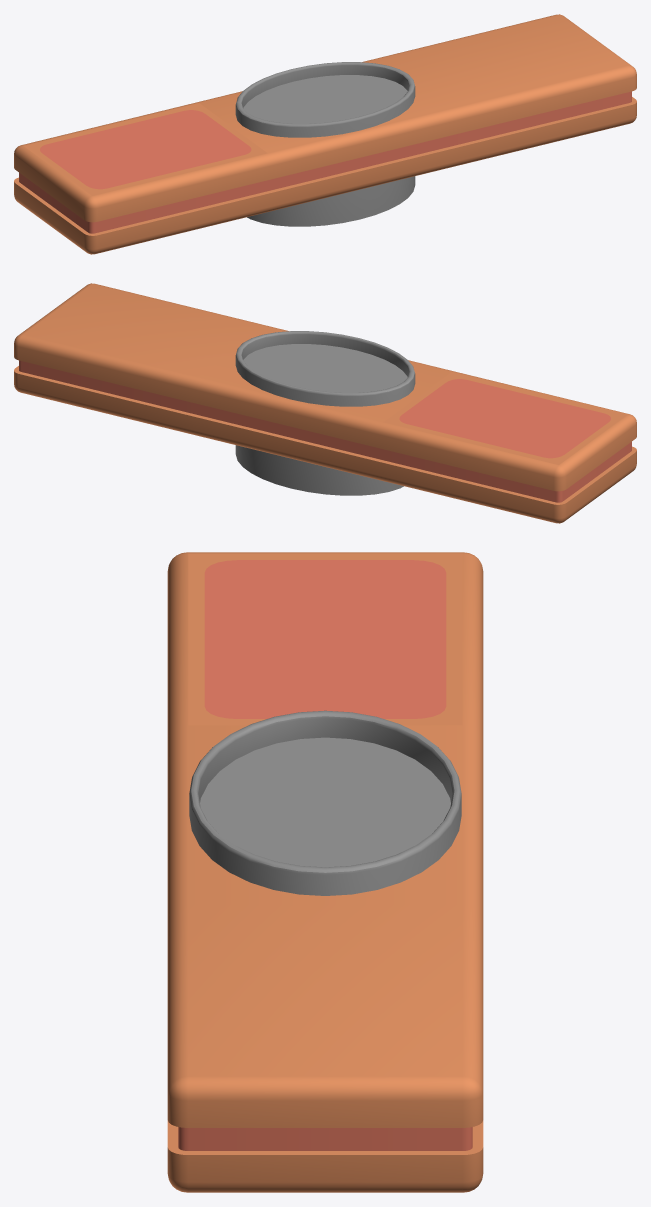
The model's file is istakozMasa.fbx.
3 views of the same model, one above another, from view 1: azimuth 30°, elevation 25°; view 2: azimuth 150°, elevation 25°; view 3: azimuth 270°, elevation 25° (orthographic). The views are drawn at different scales.
Visible parts, largest first — view 1: Cube, Cylinder.001; view 2: Cube, Cylinder.001; view 3: Cube, Cylinder.001.
Boxes of the visible parts, x1,y1,x2,y2 form: Cube: [14, 14, 636, 254]; Cylinder.001: [235, 62, 415, 226]; Cube: [14, 283, 636, 523]; Cylinder.001: [235, 331, 415, 495]; Cube: [167, 552, 483, 1192]; Cylinder.001: [189, 710, 461, 895].
Size of the model in its own units: 429 by 75.35 by 106.
